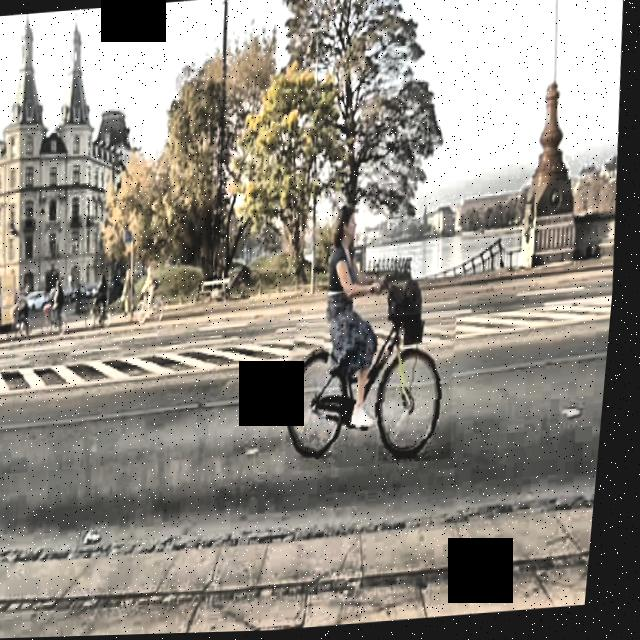bicycle: (286, 314, 470, 474)
